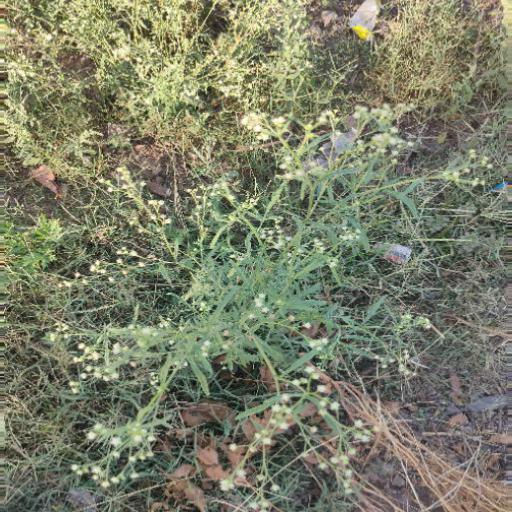weed: (45, 162, 438, 480), (42, 4, 491, 145)
